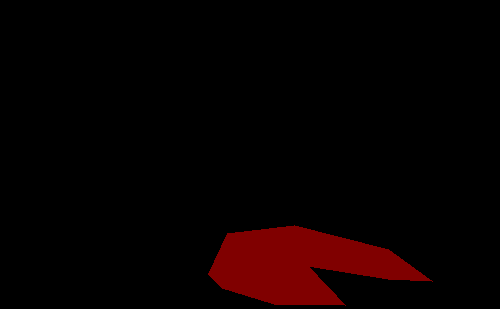fire: (208, 225, 432, 305)
